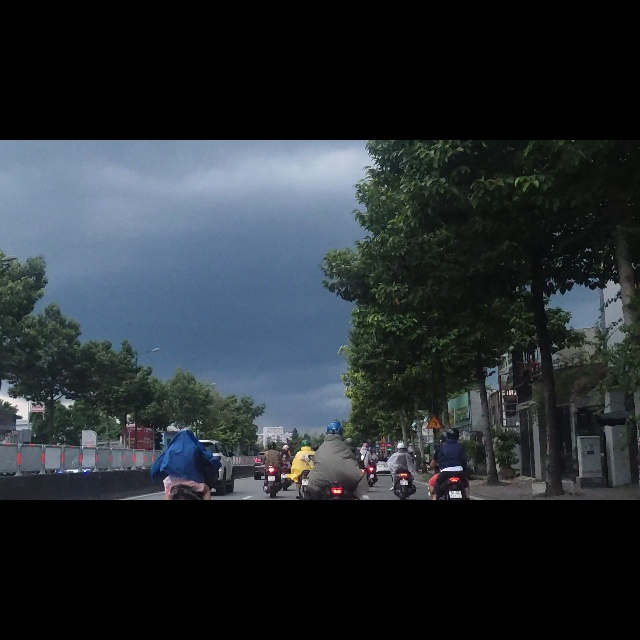bien_hieu_lenh: (426, 489, 443, 514)
